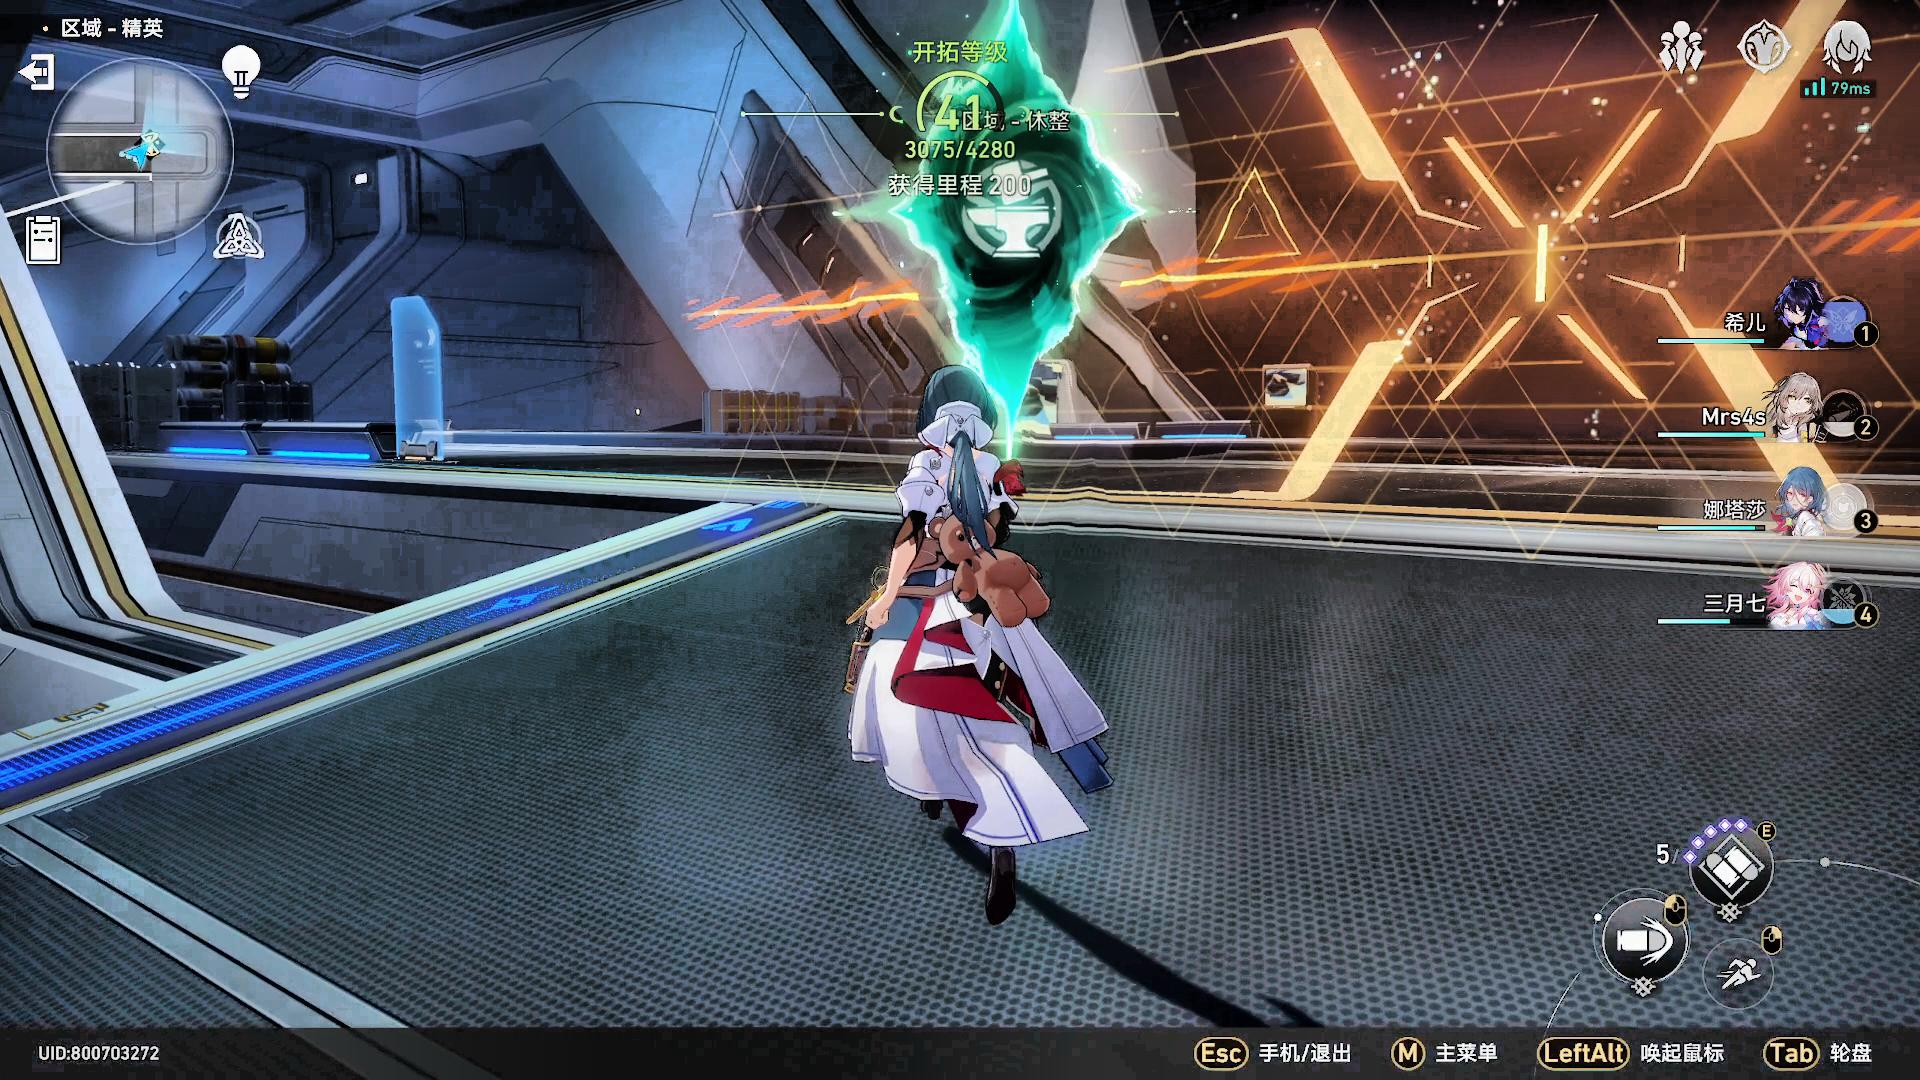SafeDoor: (849, 3, 1142, 392)
Self: (833, 367, 1113, 928)
